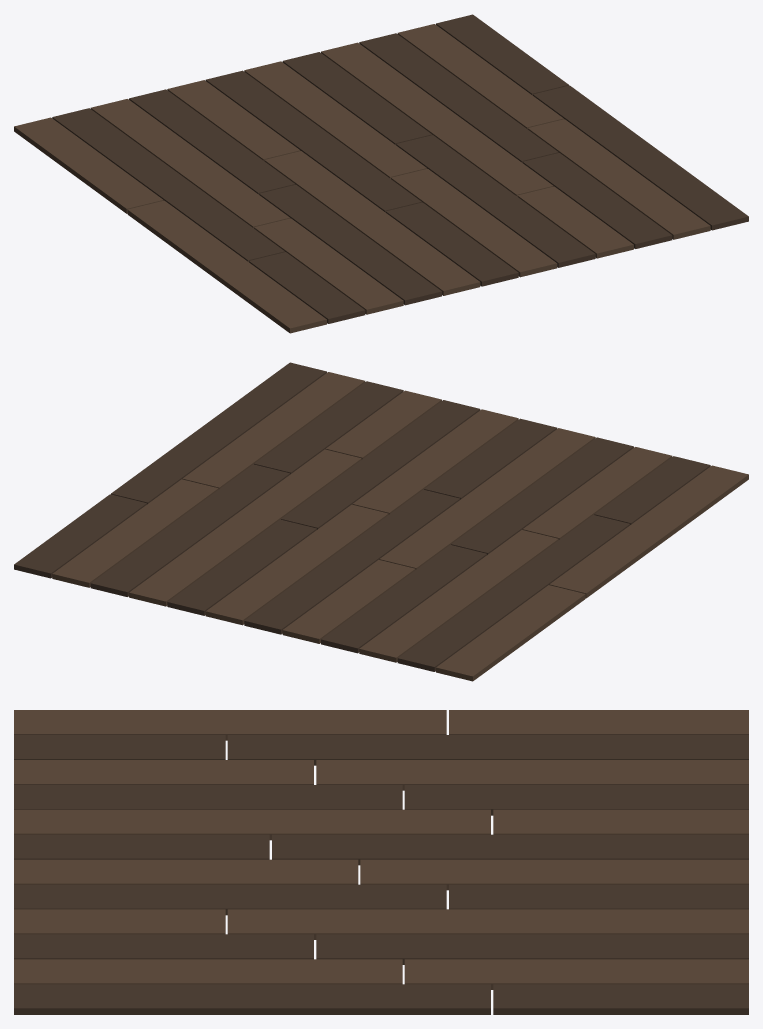
The model's file is SM_ENV_PisoTabuas.fbx.
The picture shows the model from 3 angles, top to bottom: view 1: azimuth 30°, elevation 25°; view 2: azimuth 150°, elevation 25°; view 3: azimuth 270°, elevation 25°; orthographic projection. The views are drawn at different scales.
Parts seen in each view (by area): view 1: SM_ENV_PisoTabuas; view 2: SM_ENV_PisoTabuas; view 3: SM_ENV_PisoTabuas.
Part boxes in pixels (x1,y1,x2,y2): SM_ENV_PisoTabuas: (14, 14, 748, 333); SM_ENV_PisoTabuas: (14, 362, 748, 681); SM_ENV_PisoTabuas: (14, 710, 748, 1014).
Size of the model in its own units: 1.91 by 0.02 by 1.99.
